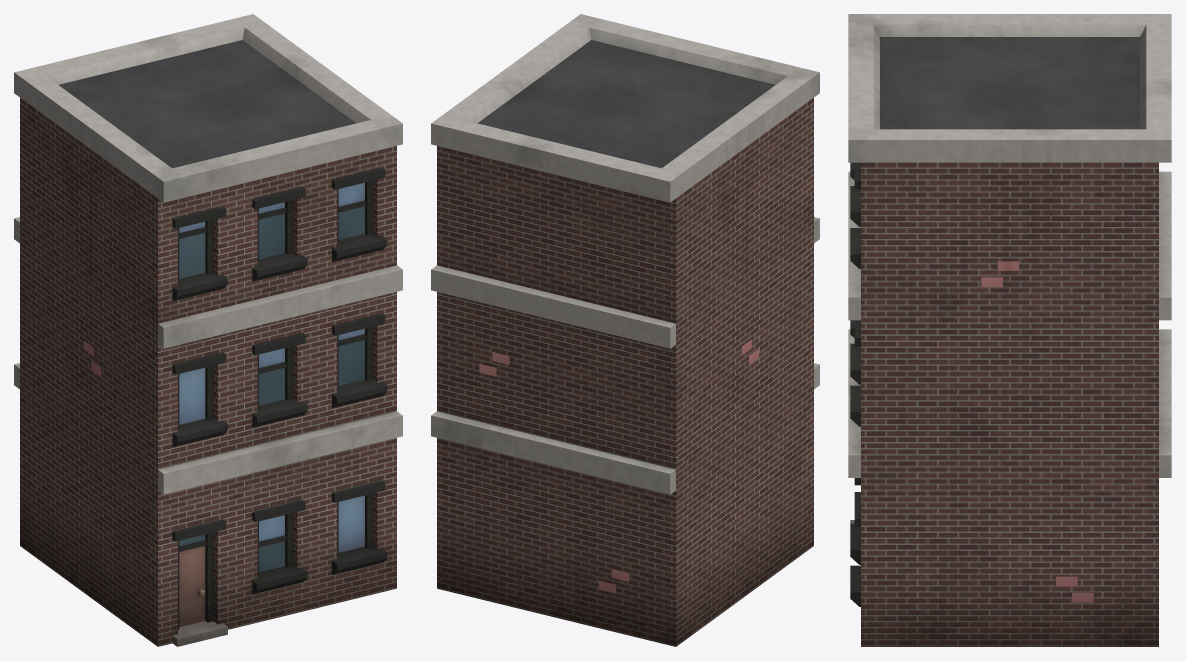
File: building_C.glb
The picture shows the model from 3 angles, left to right: view 1: azimuth 30°, elevation 25°; view 2: azimuth 150°, elevation 25°; view 3: azimuth 270°, elevation 25°; orthographic projection. The views are drawn at different scales.
Visible parts, largest first — view 1: building_C_withoutBase; view 2: building_C_withoutBase; view 3: building_C_withoutBase.
Boxes of the visible parts, bbox=[...] form: building_C_withoutBase: bbox=[14, 14, 402, 646]; building_C_withoutBase: bbox=[431, 14, 819, 646]; building_C_withoutBase: bbox=[848, 14, 1171, 646].
Size of the model in its own units: 1.21 by 2.25 by 1.3.
2 materials, 2 textured.
